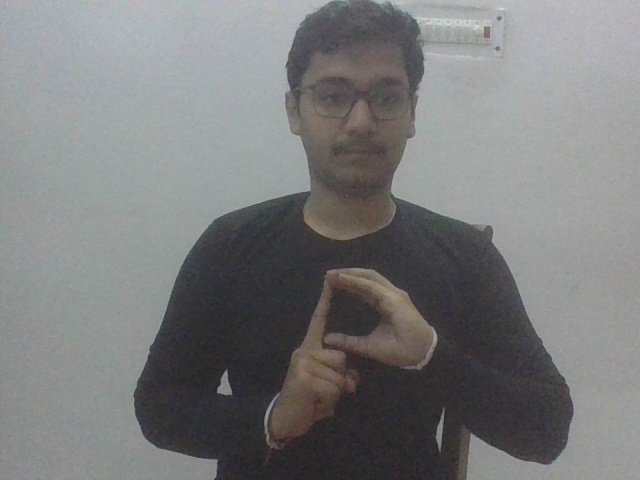D: (274, 265, 434, 449)
